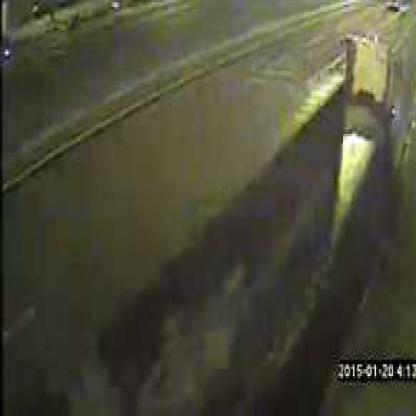container: (28, 36, 406, 382)
